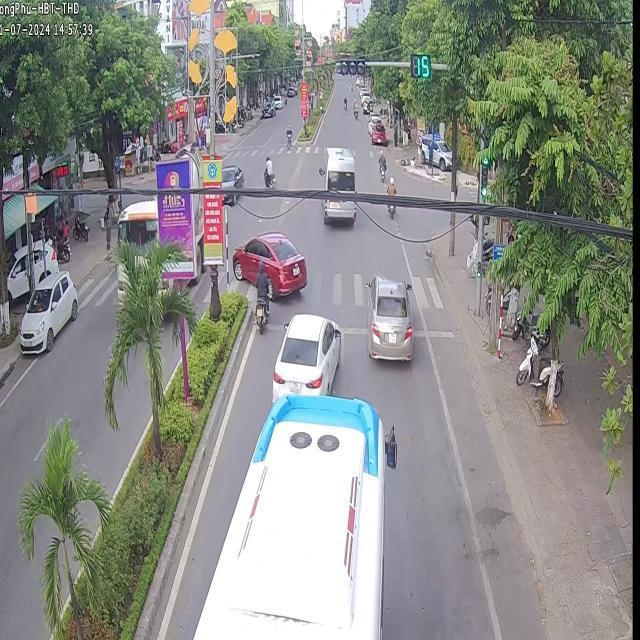car: (190, 394, 384, 638), (271, 311, 339, 398), (230, 231, 306, 296), (364, 274, 412, 360), (320, 144, 354, 222)
green_light: (334, 54, 364, 74), (477, 154, 487, 198)
motobike: (253, 258, 268, 331)
stop_line: (412, 328, 453, 336), (339, 323, 366, 334), (264, 318, 286, 330)
